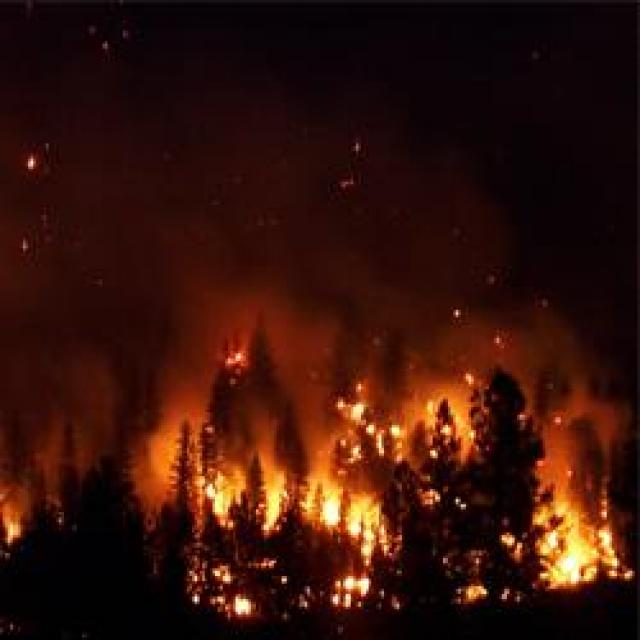fire: (0, 296, 640, 614)
